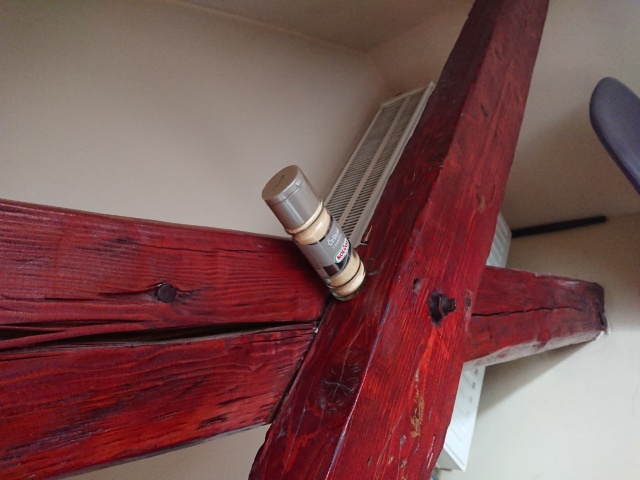Kotanyi Garlic Granules 70g: (259, 162, 370, 303)
